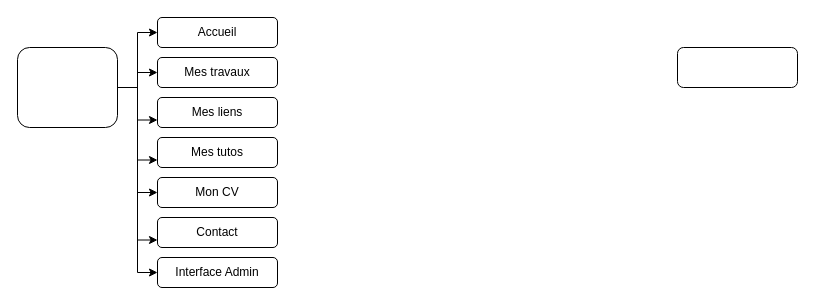
The diagram is 815 pixels wide and 305 high, and some of its shapes have lost their labels. The shapes that lost their labels are listed below. From the top down, each one's centre as x and y in pixels, then its label:
At [67,87]: "Burger menu?".
At [737,67]: "Dark mode".
